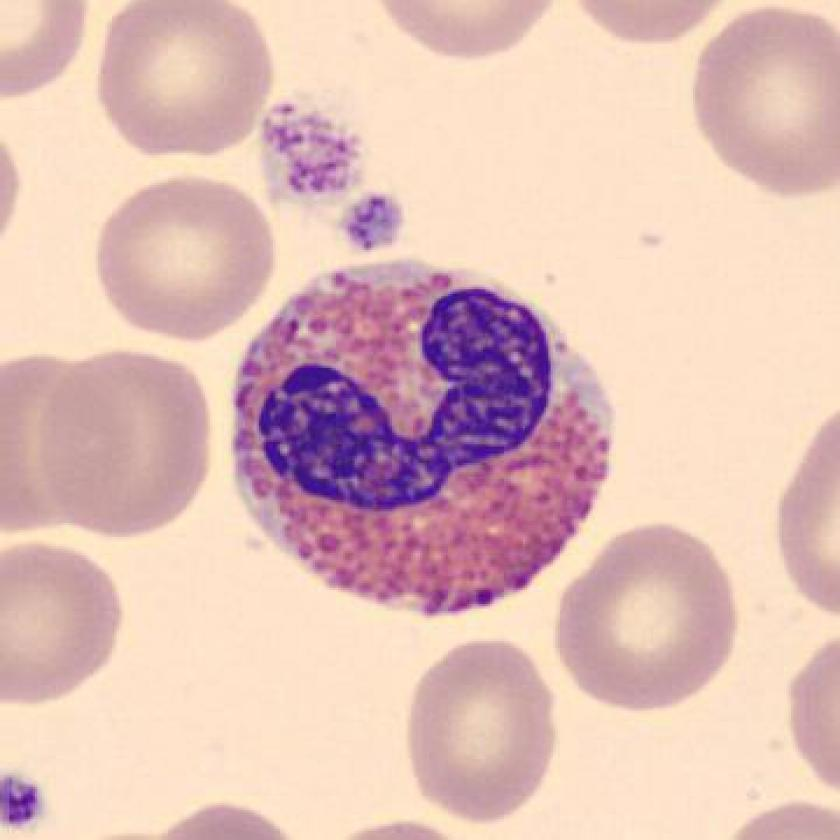eosinophil: (213, 246, 638, 635)
